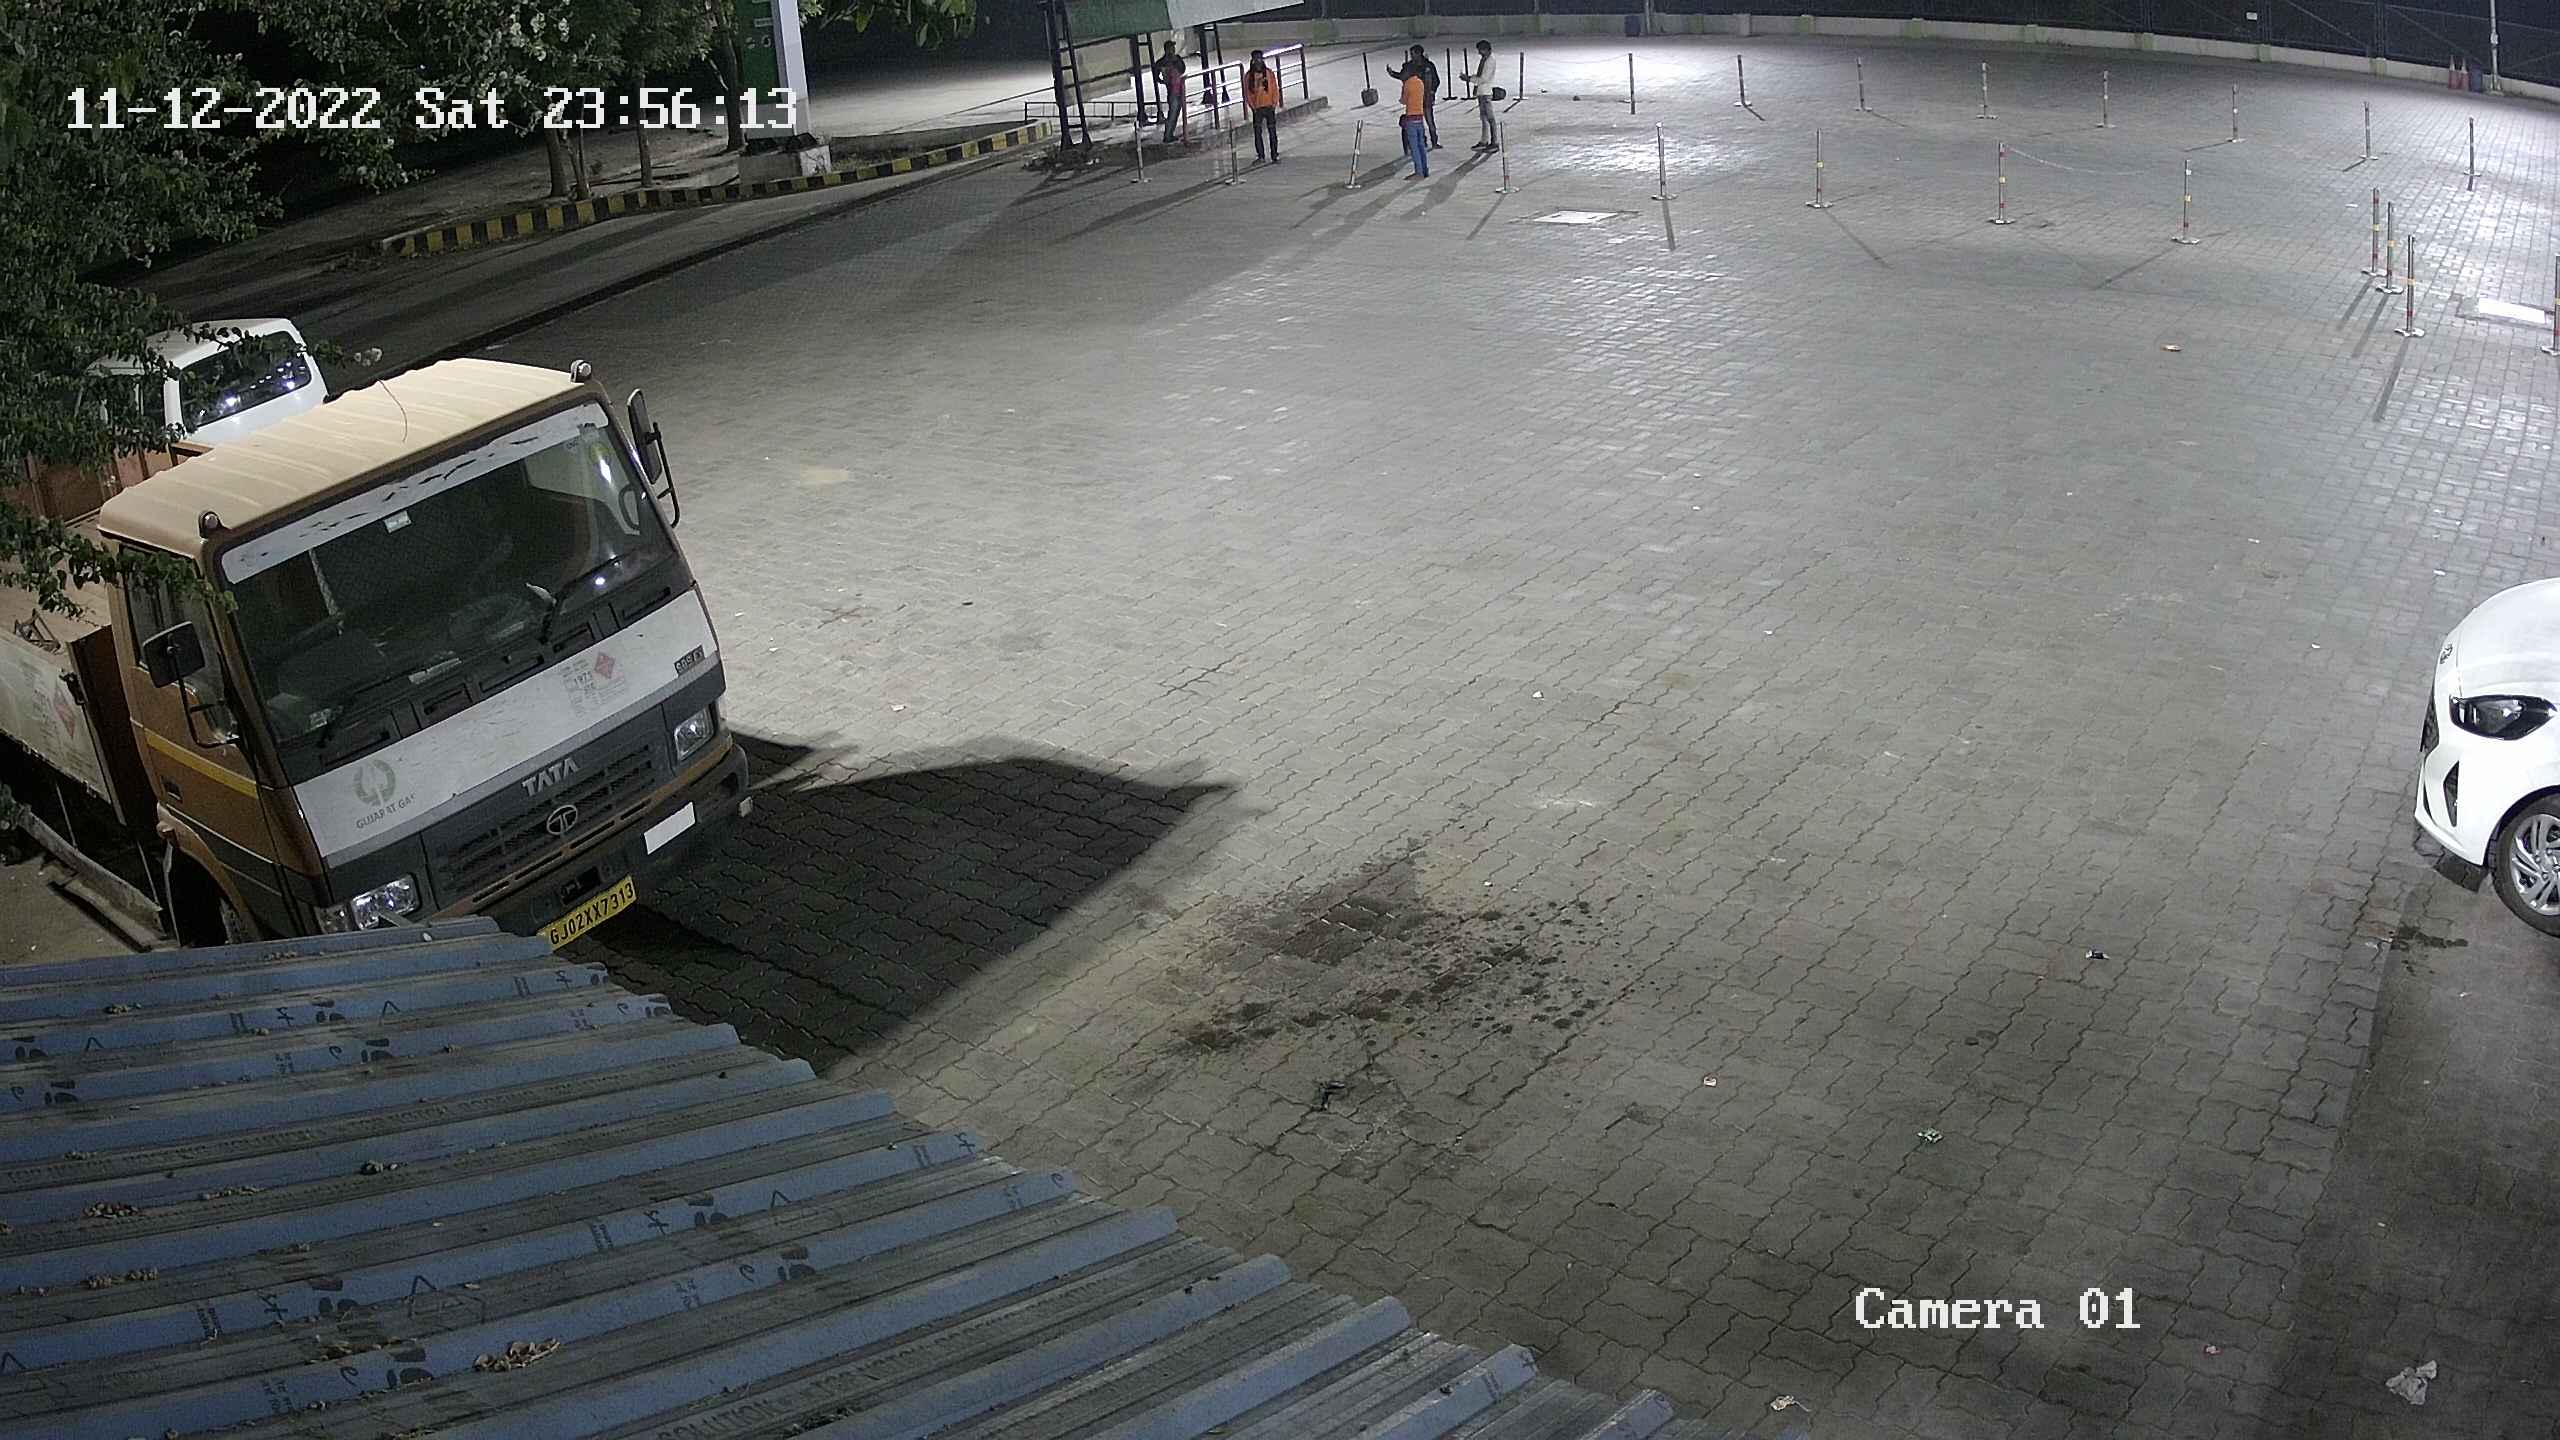Car: (2382, 542, 2556, 960), (39, 306, 350, 454)
HMV: (0, 338, 774, 960)
